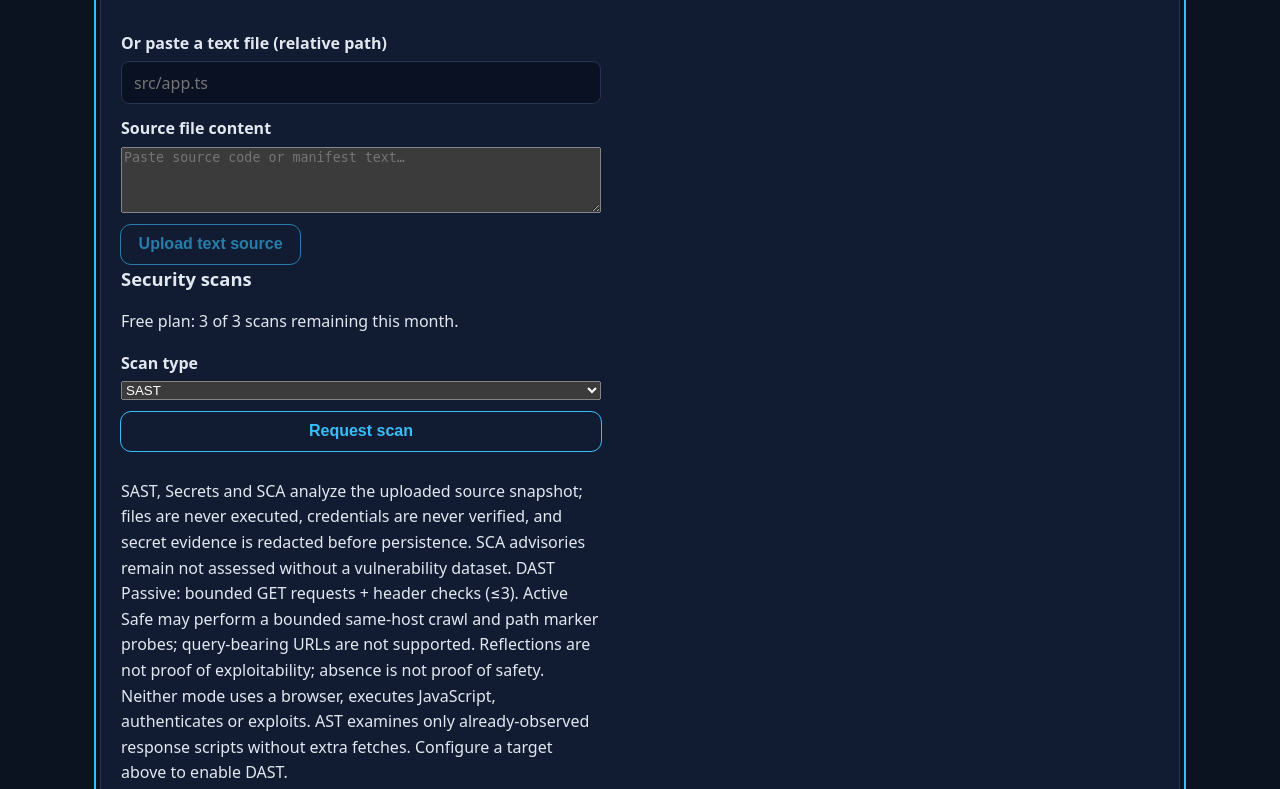
Test: passive DAST project UI › API-specification discovery is an opt-in checkbox that requires the active consent
Later steps or results of the test are not shown.
(page scrolled)
Select "DAST" in the dropdown with test id "scan-type-select" at (361, 391), box [121,381,601,400]
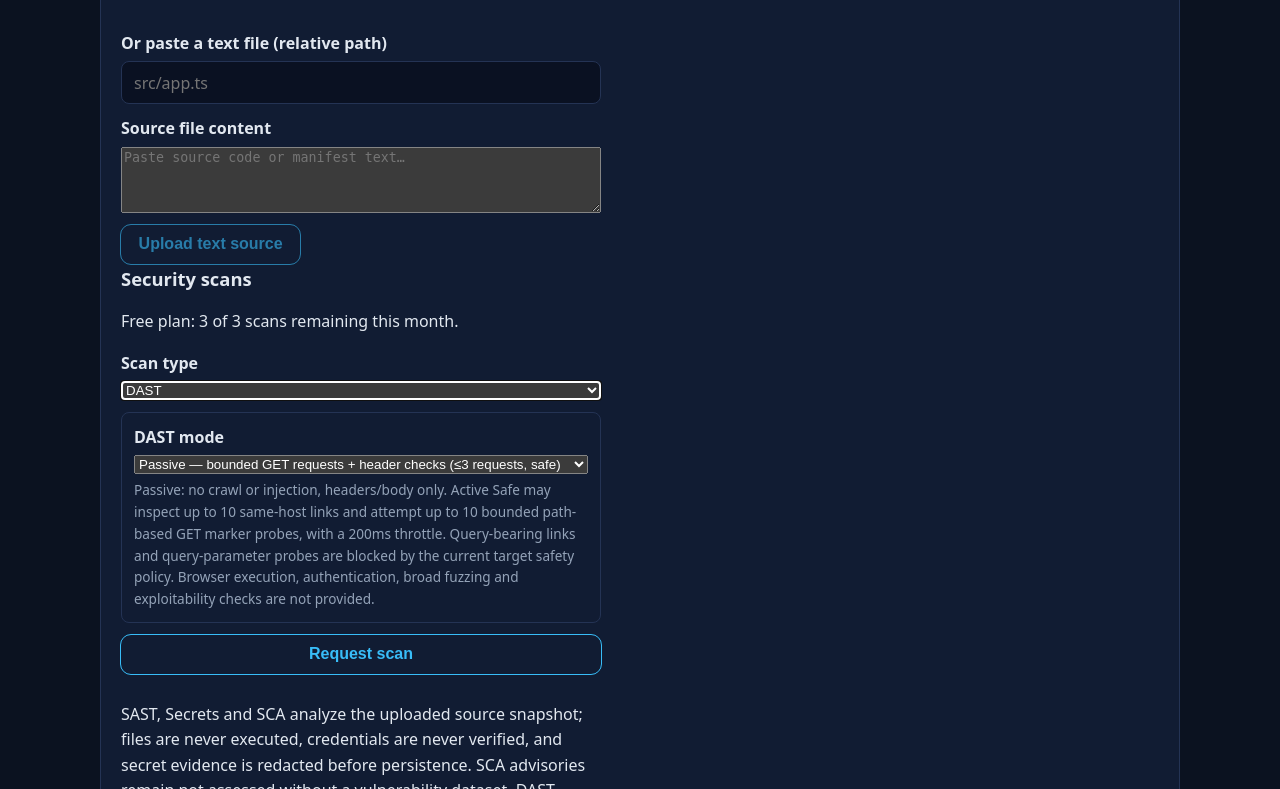
Select "Active Safe — bounded crawl + path marker probes (≤20 requests, consent required" in the dropdown with test id "dast-mode-select" at (361, 465), box [134,456,588,474]
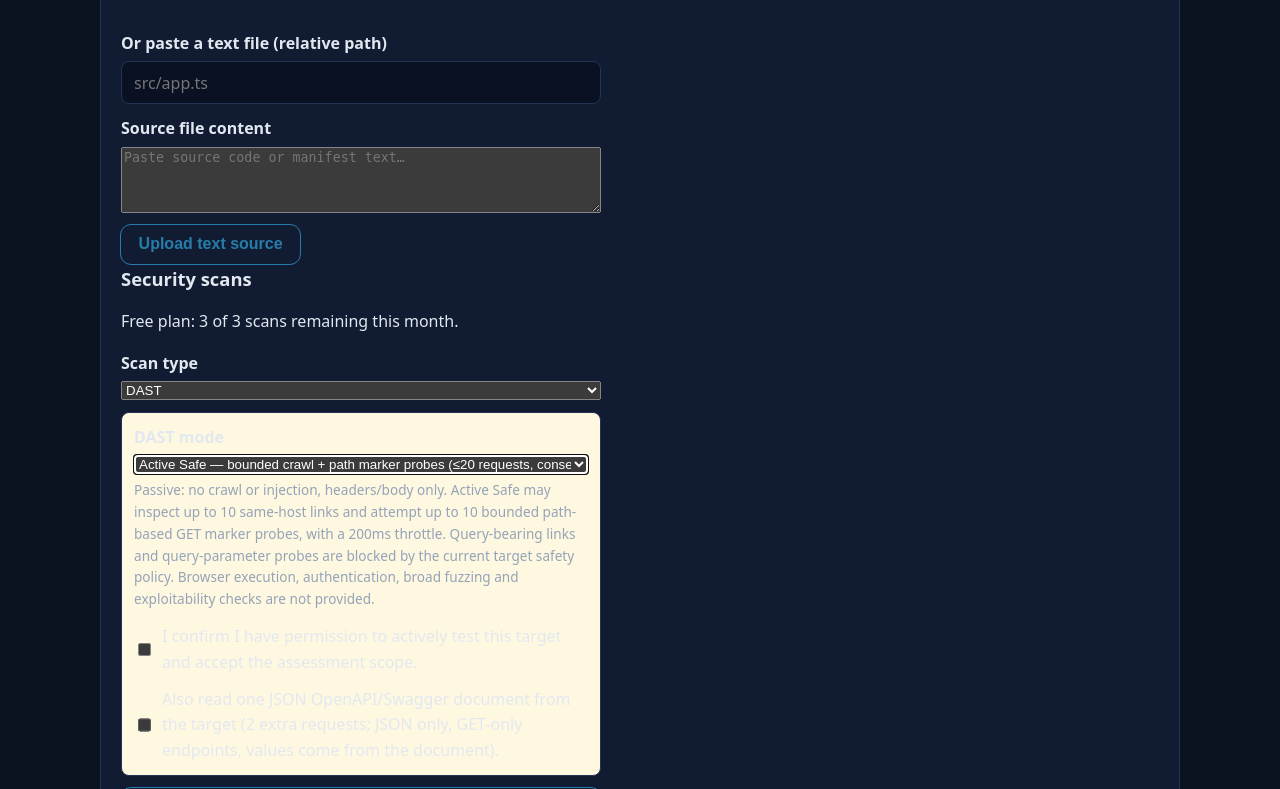
expect the checkbox with test id "dast-openapi-checkbox" is disabled: met, box [138,690,151,760]
Click the checkbox with test id "dast-consent-checkbox".
click(144, 650)  # box [138,627,151,672]
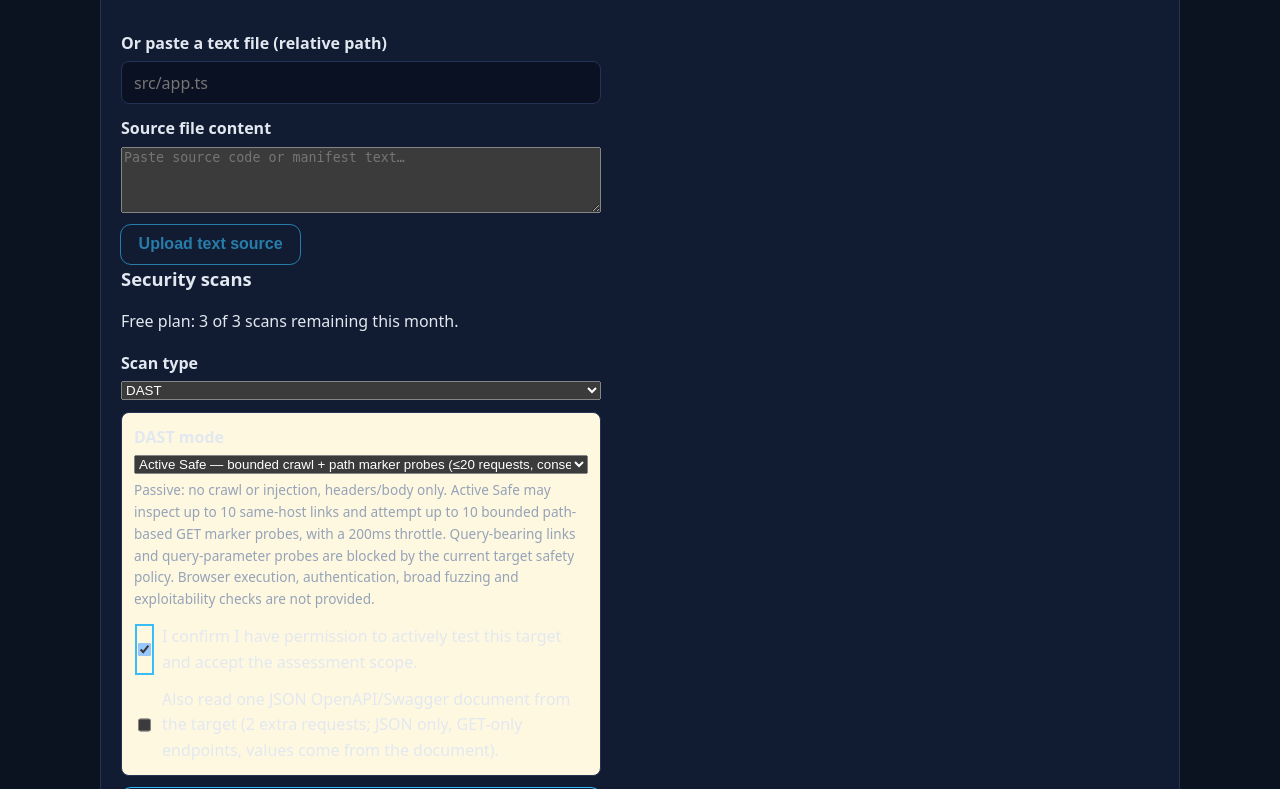
expect the checkbox with test id "dast-openapi-checkbox" is enabled: met, box [138,690,151,760]
